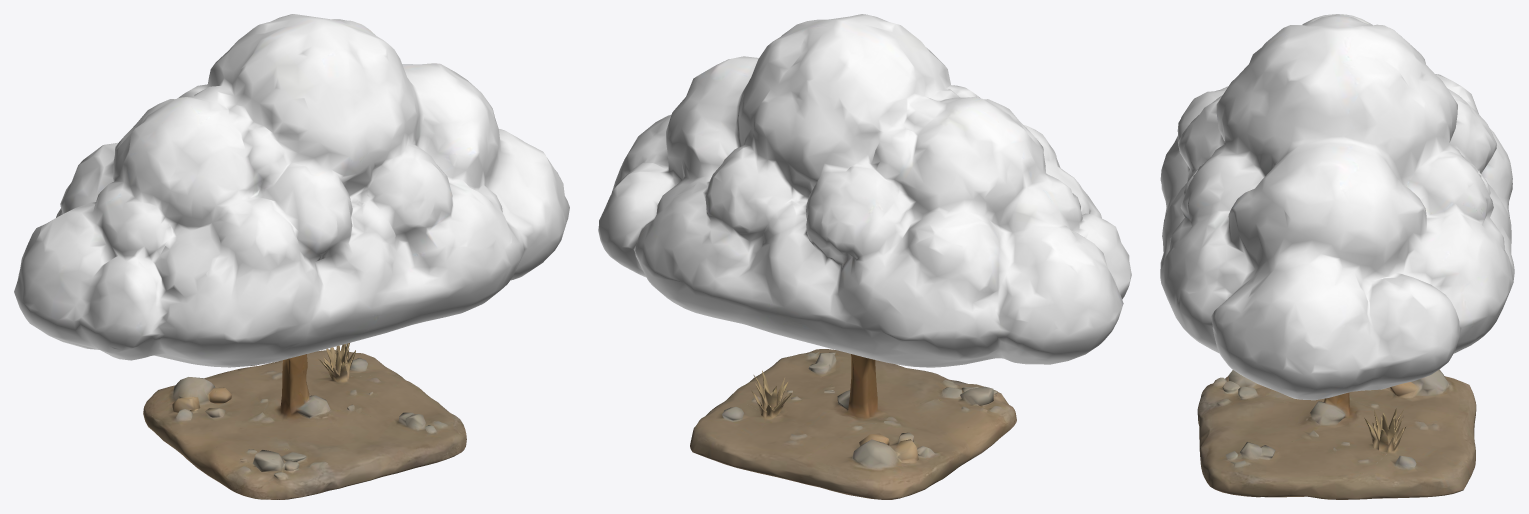
The model's file is journey_cloud_a.glb.
The picture shows the model from 3 angles, left to right: view 1: azimuth 30°, elevation 25°; view 2: azimuth 150°, elevation 25°; view 3: azimuth 270°, elevation 25°; orthographic projection. The views are drawn at different scales.
Visible parts, largest first — view 1: tripo_node_e6dd4fb9-9eaa-41c4-b05f-e8e4df50fea1; view 2: tripo_node_e6dd4fb9-9eaa-41c4-b05f-e8e4df50fea1; view 3: tripo_node_e6dd4fb9-9eaa-41c4-b05f-e8e4df50fea1.
Boxes of the visible parts, <box> form: tripo_node_e6dd4fb9-9eaa-41c4-b05f-e8e4df50fea1: <box>14,14,569,499</box>; tripo_node_e6dd4fb9-9eaa-41c4-b05f-e8e4df50fea1: <box>598,14,1131,499</box>; tripo_node_e6dd4fb9-9eaa-41c4-b05f-e8e4df50fea1: <box>1160,14,1514,499</box>.
Bounding box in the file's own units: 1 × 0.7604 × 0.5836.
1 material, 1 textured.
